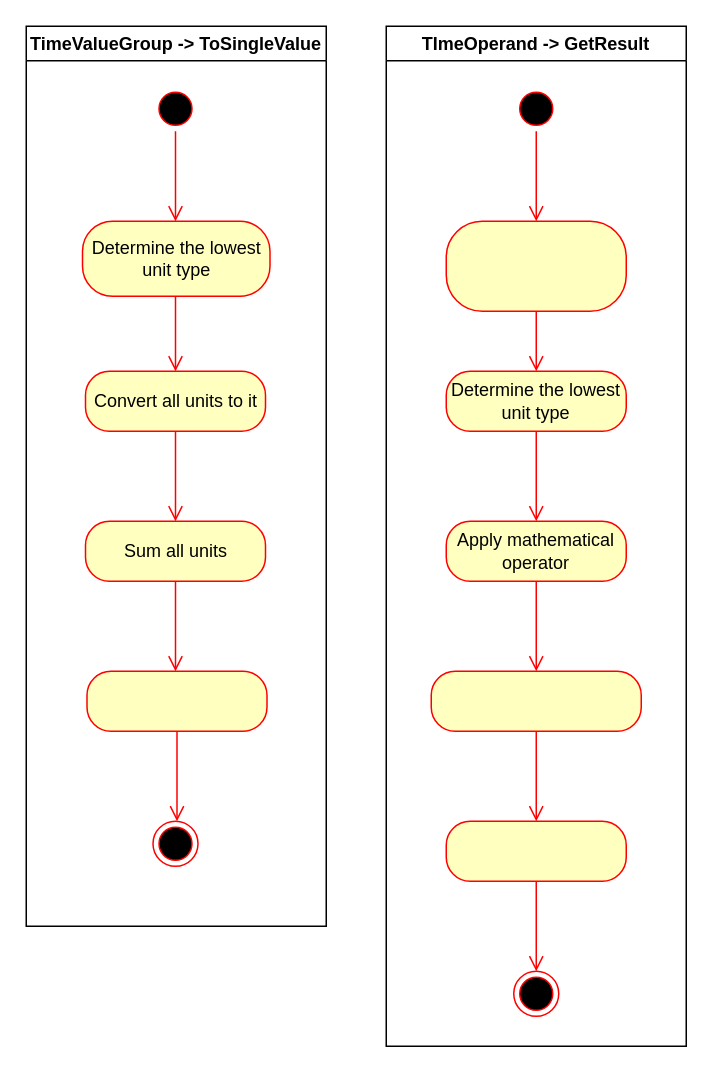
This 713x1073 diagram has some shape labels left out. The shapes that lost their labels are listed below. From the top down, each one's centre as x and y in pixels, then its label:
At [535,265]: "Convert both operands to single value".
At [176,700]: "Return result as TimeValue".
At [535,700]: "Convert to the highest unit types".
At [535,850]: "Return result as TimeValueGroup".
